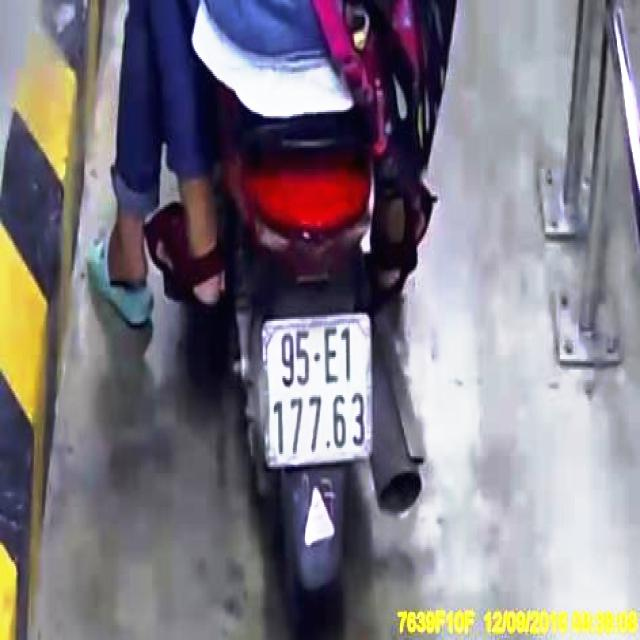license_plate: (263, 316, 372, 469)
